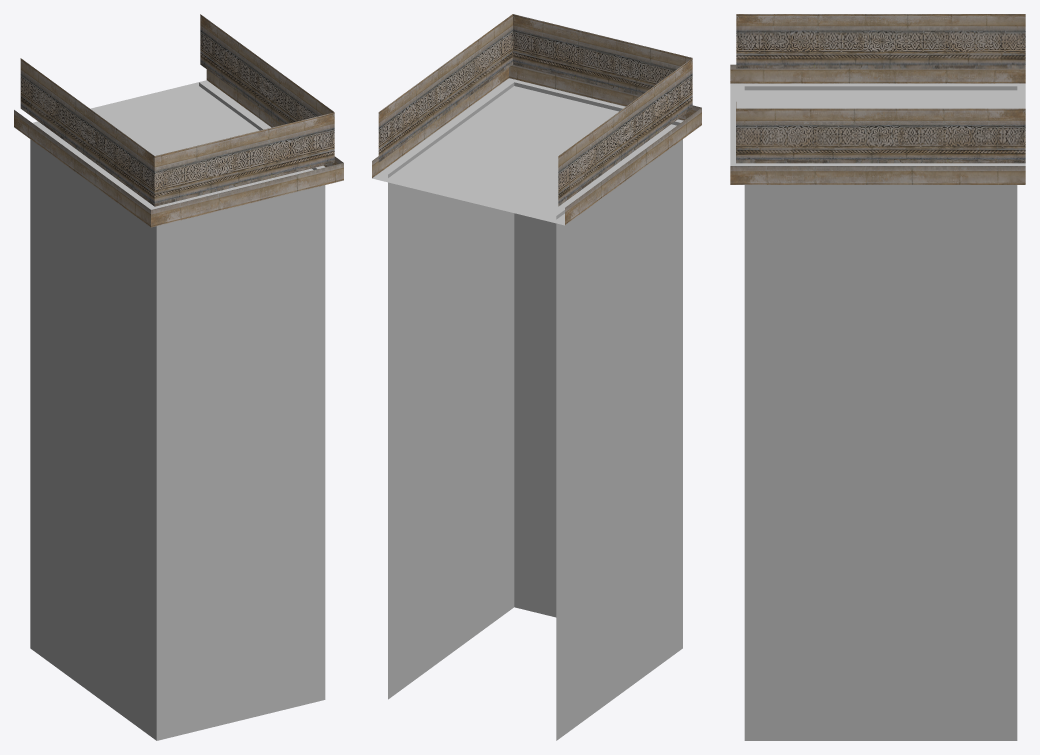
File: jianzhu_06.FBX
The picture shows the model from 3 angles, left to right: view 1: azimuth 30°, elevation 25°; view 2: azimuth 150°, elevation 25°; view 3: azimuth 270°, elevation 25°; orthographic projection. The views are drawn at different scales.
Visible parts, largest first — view 1: qiangmian01, dingbu1, dingbu; view 2: qiangmian01, dingbu1, dingbu; view 3: qiangmian01, dingbu1, dingbu.
Part boxes in pixels (box(x1,y1,x2,y2)): qiangmian01: box(30, 82, 325, 740); dingbu1: box(14, 14, 343, 227); dingbu: box(32, 80, 325, 209); qiangmian01: box(388, 82, 682, 740); dingbu1: box(372, 14, 701, 224); dingbu: box(372, 78, 683, 225); qiangmian01: box(744, 86, 1017, 740); dingbu1: box(730, 14, 1025, 184); dingbu: box(730, 83, 1025, 165).
Bounding box in the file's own units: 5.98 × 17.46 × 7.36.
